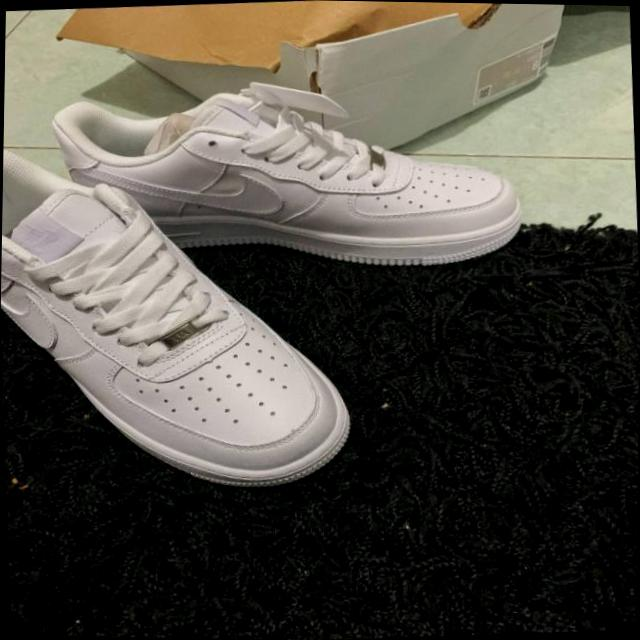nike_original_airforce: (0, 125, 366, 501), (47, 67, 530, 284)
